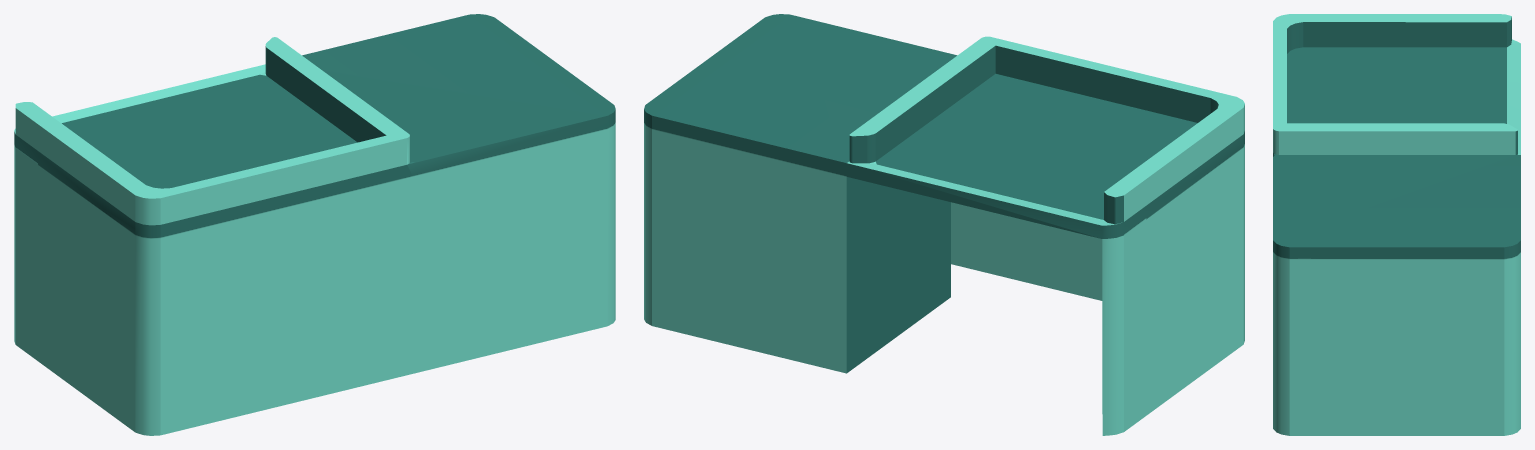
Rendered from Meja Kasir.FBX.
3 renders of one model, left to right at view 1: azimuth 30°, elevation 25°; view 2: azimuth 150°, elevation 25°; view 3: azimuth 270°, elevation 25°, orthographic. The views are drawn at different scales.
Parts seen in each view (by area): view 1: Box005; view 2: Box005; view 3: Box005.
Part boxes in pixels (box(x1,y1,x2,y2)): Box005: box(14, 14, 615, 435); Box005: box(644, 14, 1244, 435); Box005: box(1273, 14, 1520, 435).
Size of the model in its own units: 96.57 by 45.69 by 48.29.
